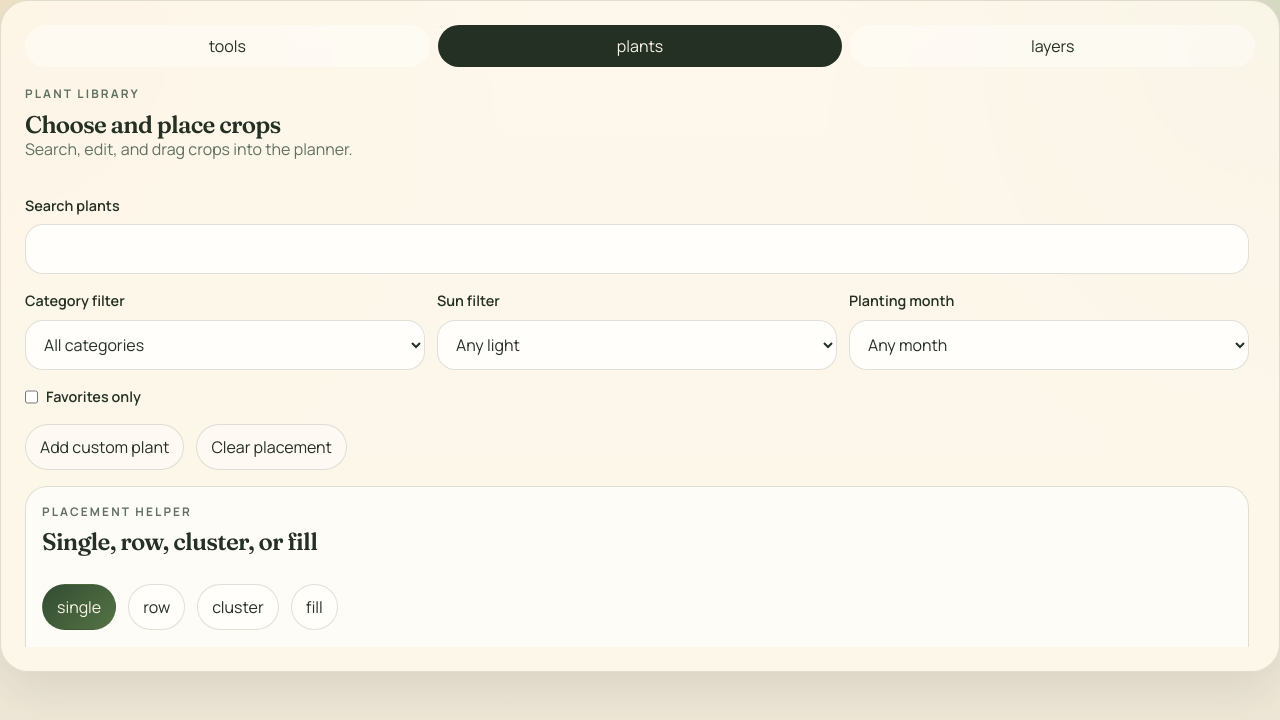
Test: PlannerSidebar › filters plants by planting month metadata
Step 1. Select "February" in the dropdown labelled "Planting month" → (1049, 345), box [849,320,1249,370]
(page scrolled)
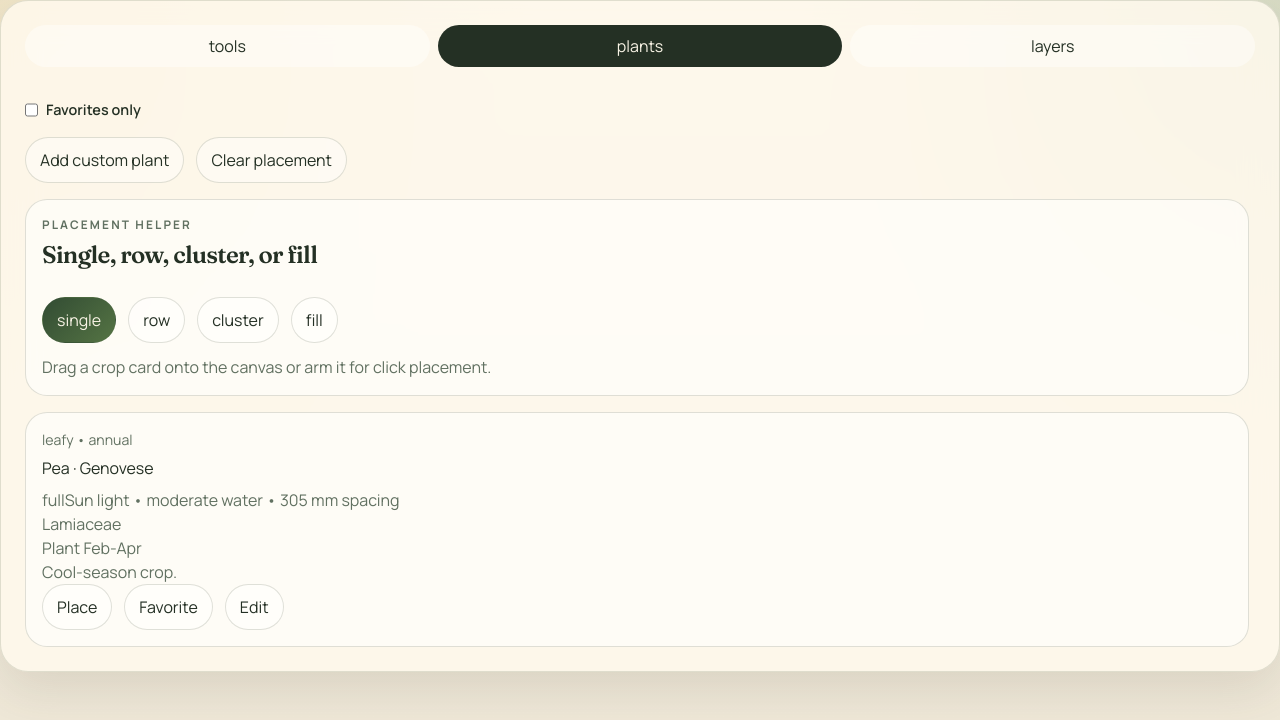
Expected: the heading "Pea · Genovese" is shown, [42,458,154,480]
